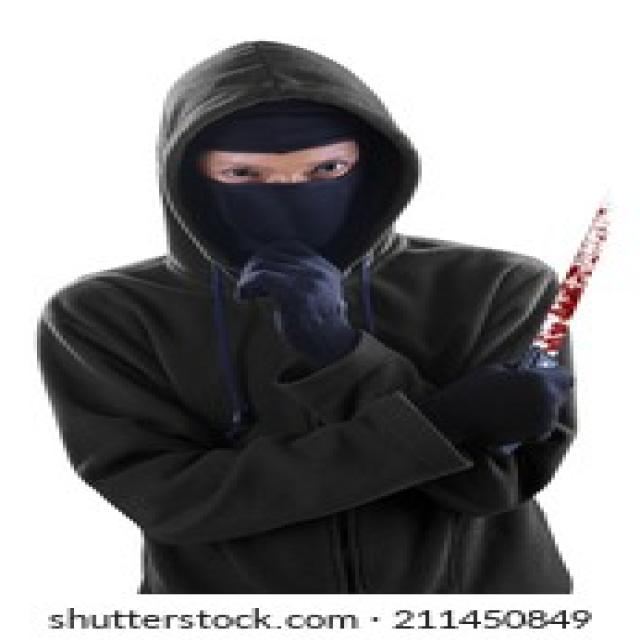6_pasamontana: (182, 102, 375, 250)
